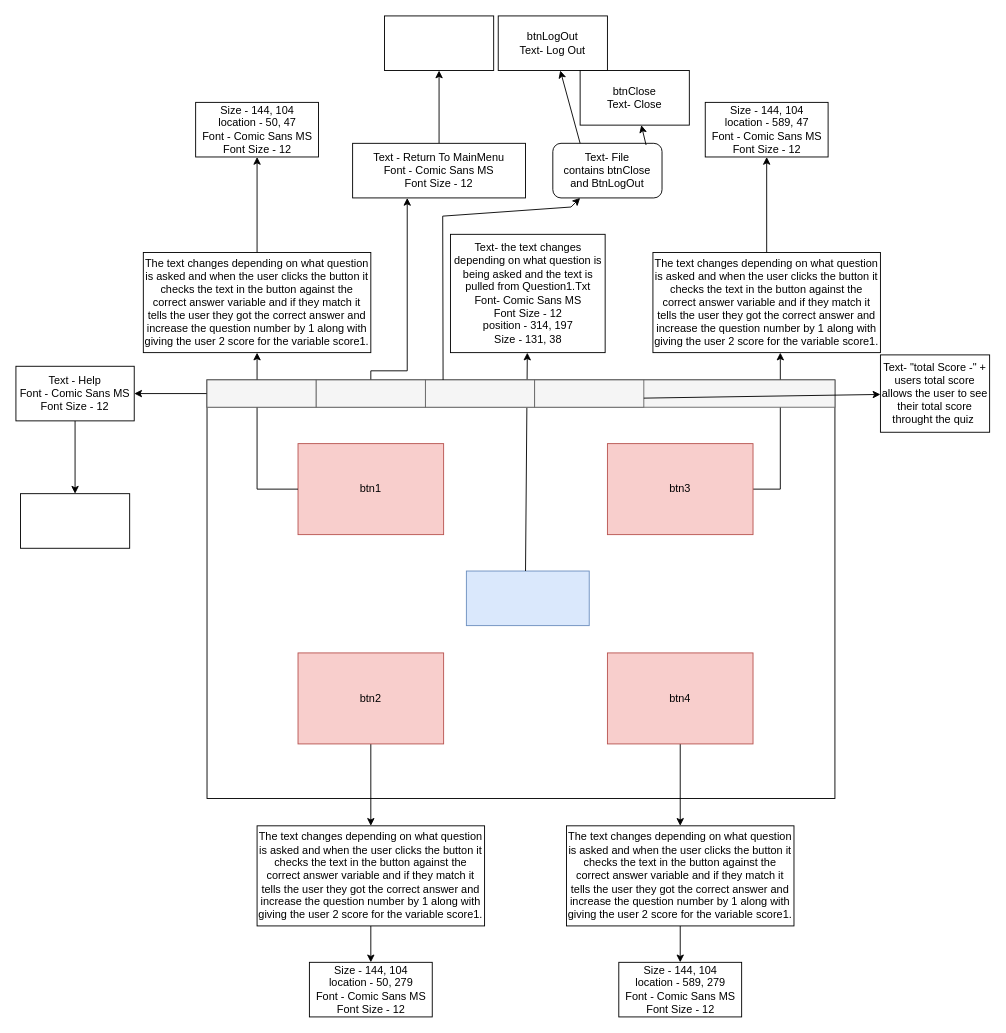
The diagram is 1006 pixels wide and 1033 high, and some of its shapes have lost their labels. Each missing label, with the centre of its shape:
brings the user back to the main menu and sets a variable so they can go back: (439,43)
btnHelp: (261,393)
btnReturn: (370,393)
dpdFile: (480,393)
lblQuestion: (527,598)
lblRunningScore: (589,393)
tells the user what they are supposed to do in the form: (75,520)
